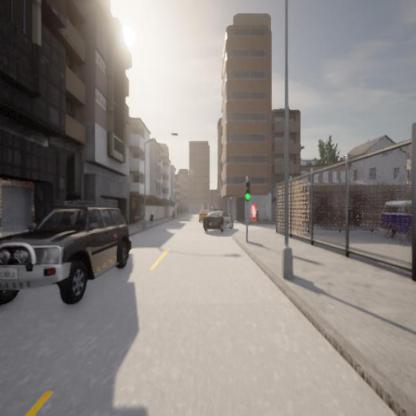traffic_light_green: (244, 181, 251, 201)
vehicle: (0, 205, 133, 305), (202, 210, 232, 235), (198, 208, 212, 221)
